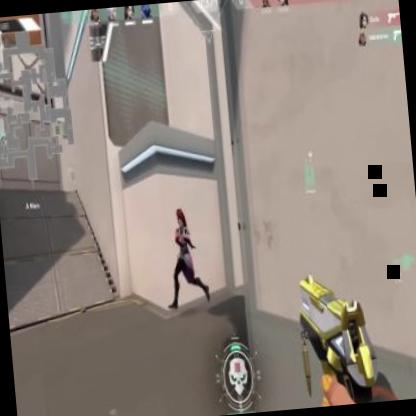enemy: (162, 204, 210, 312)
enemy_head: (176, 209, 186, 230)
